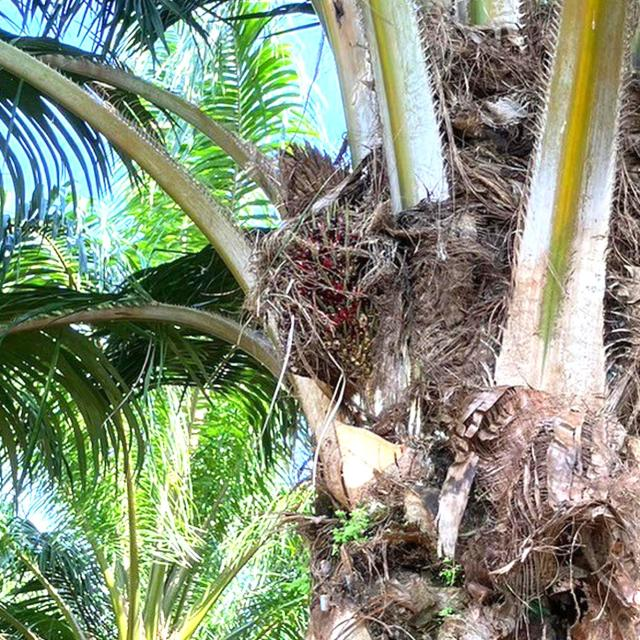ripe: (276, 214, 362, 350)
